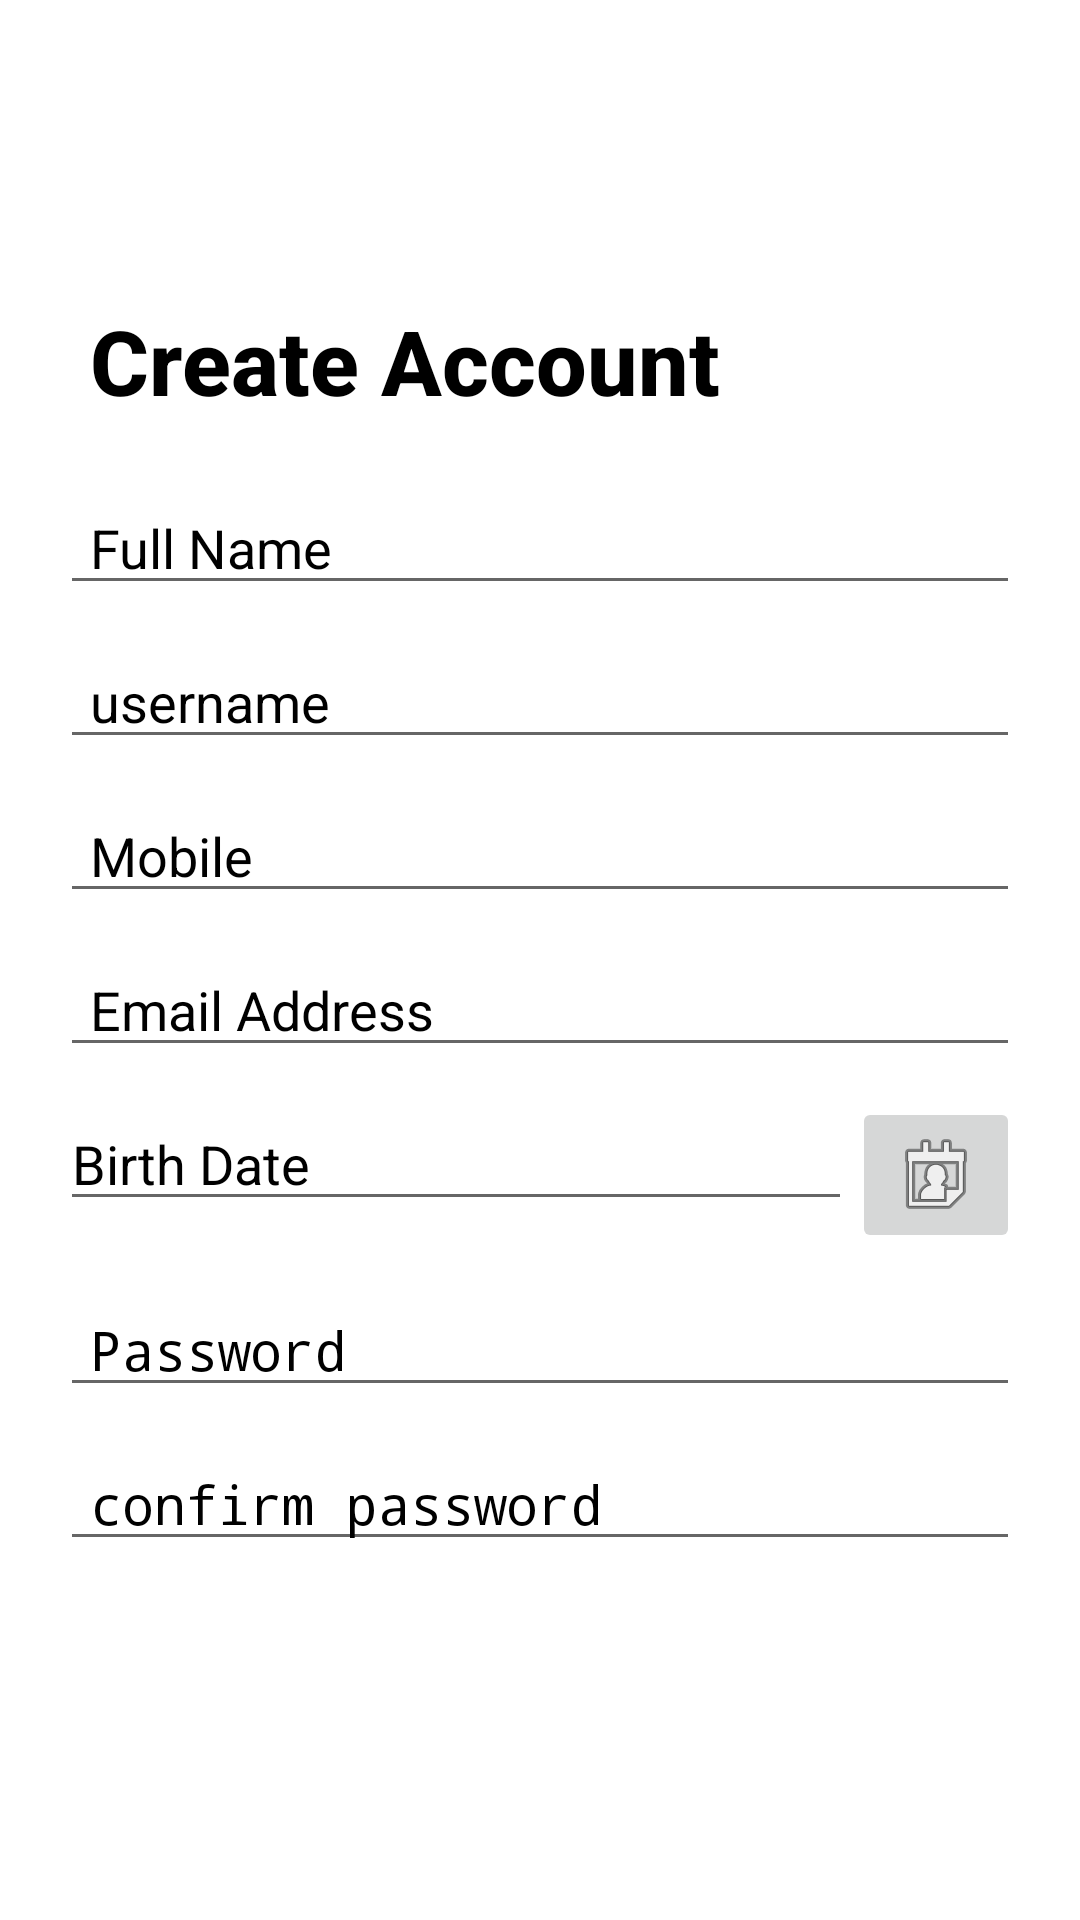

Icon bounding boxes for this 1080 × 1920 phone screenshot, format (x1, y1, x2, y2):
calendar: (864, 1115, 1008, 1235)
